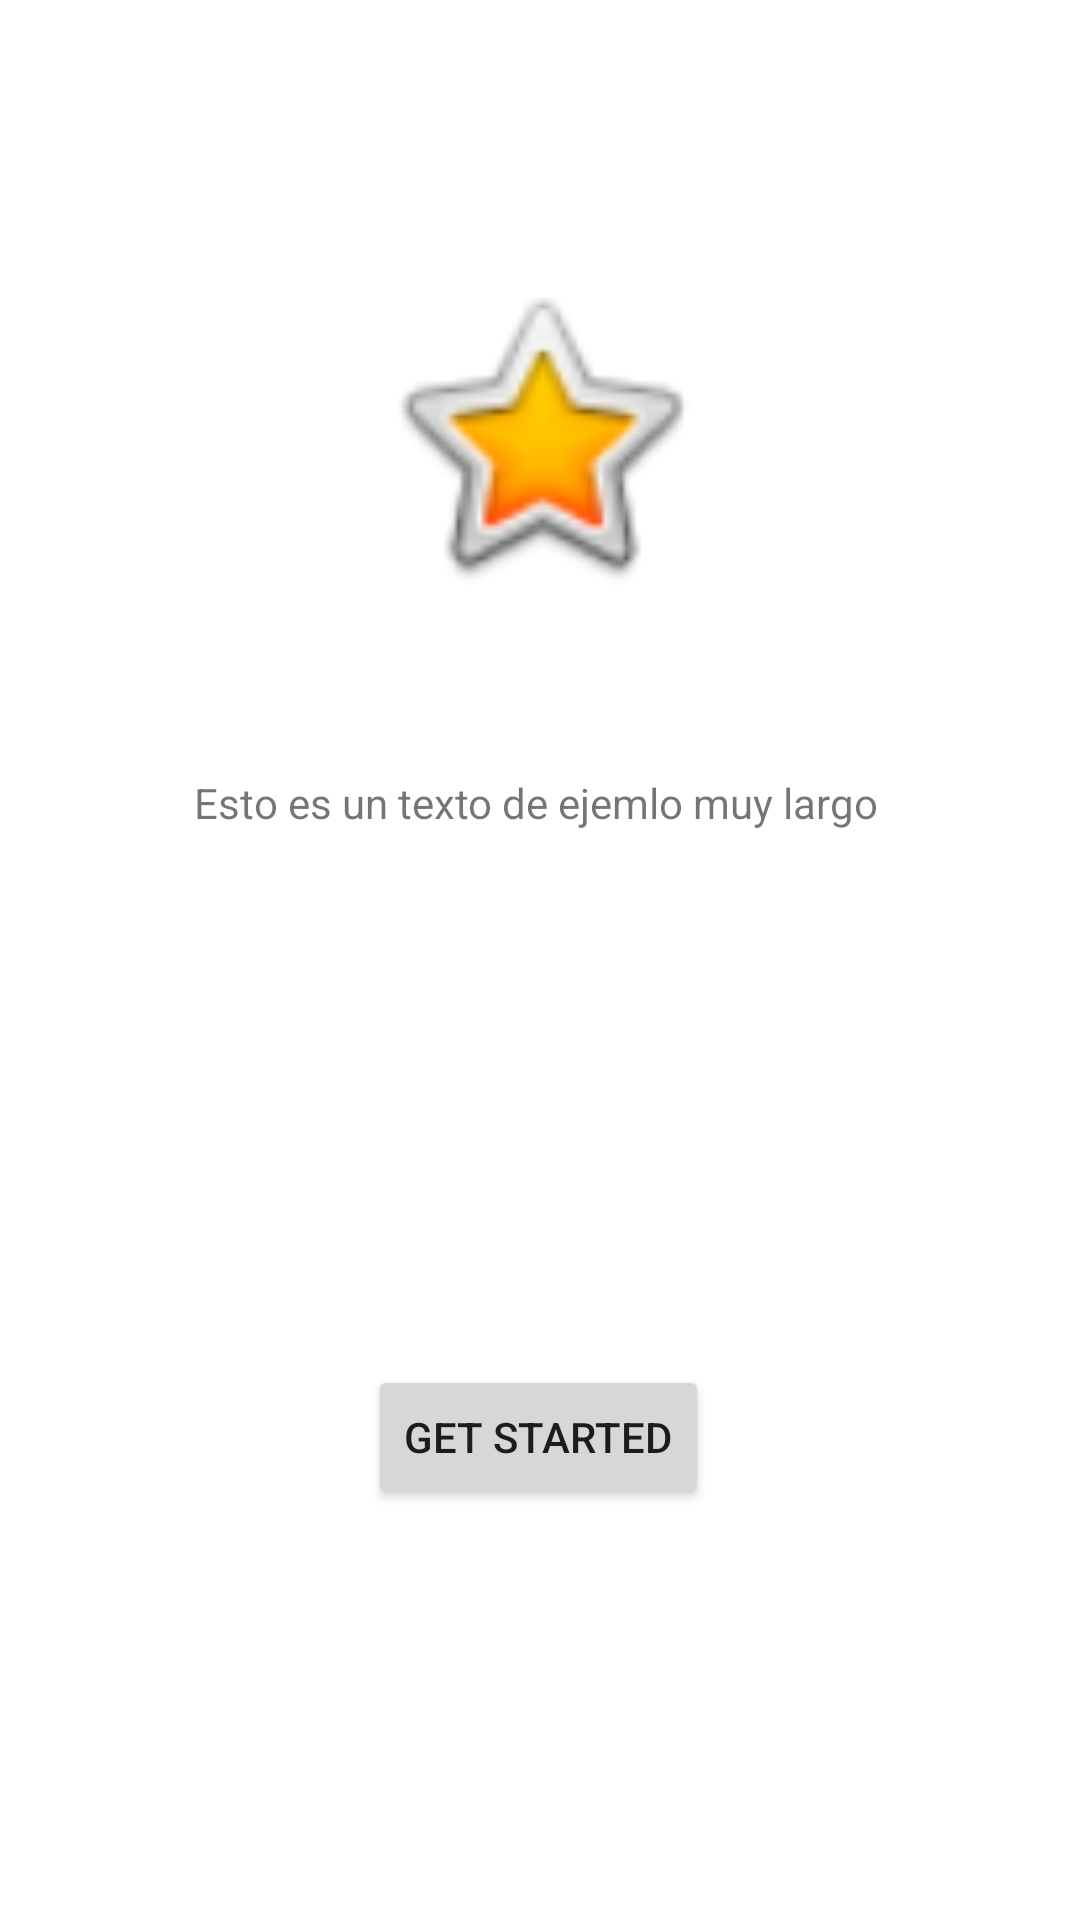

Where to tap for icons on this 1080px x 1920px app screen, as (x=x, y=y):
star on: (x=542, y=438)
